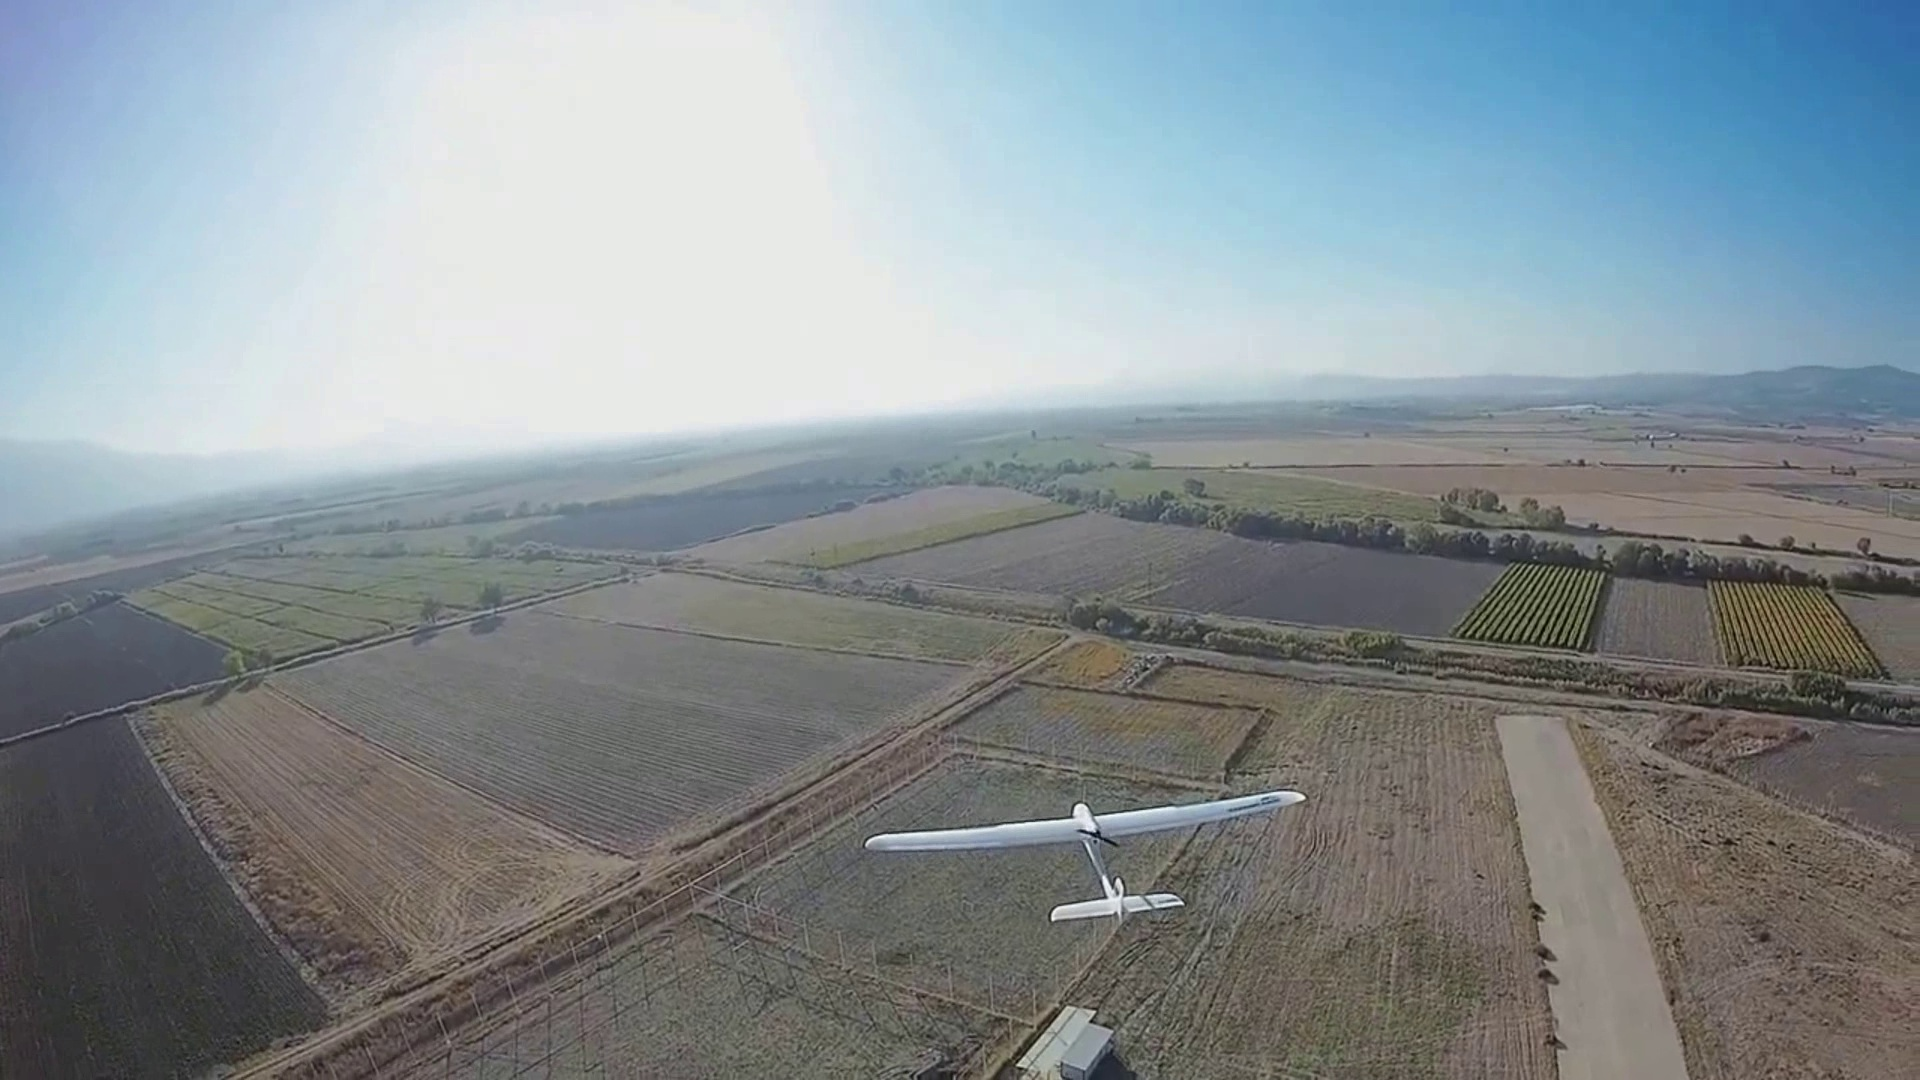airplane: (868, 788, 1307, 926)
